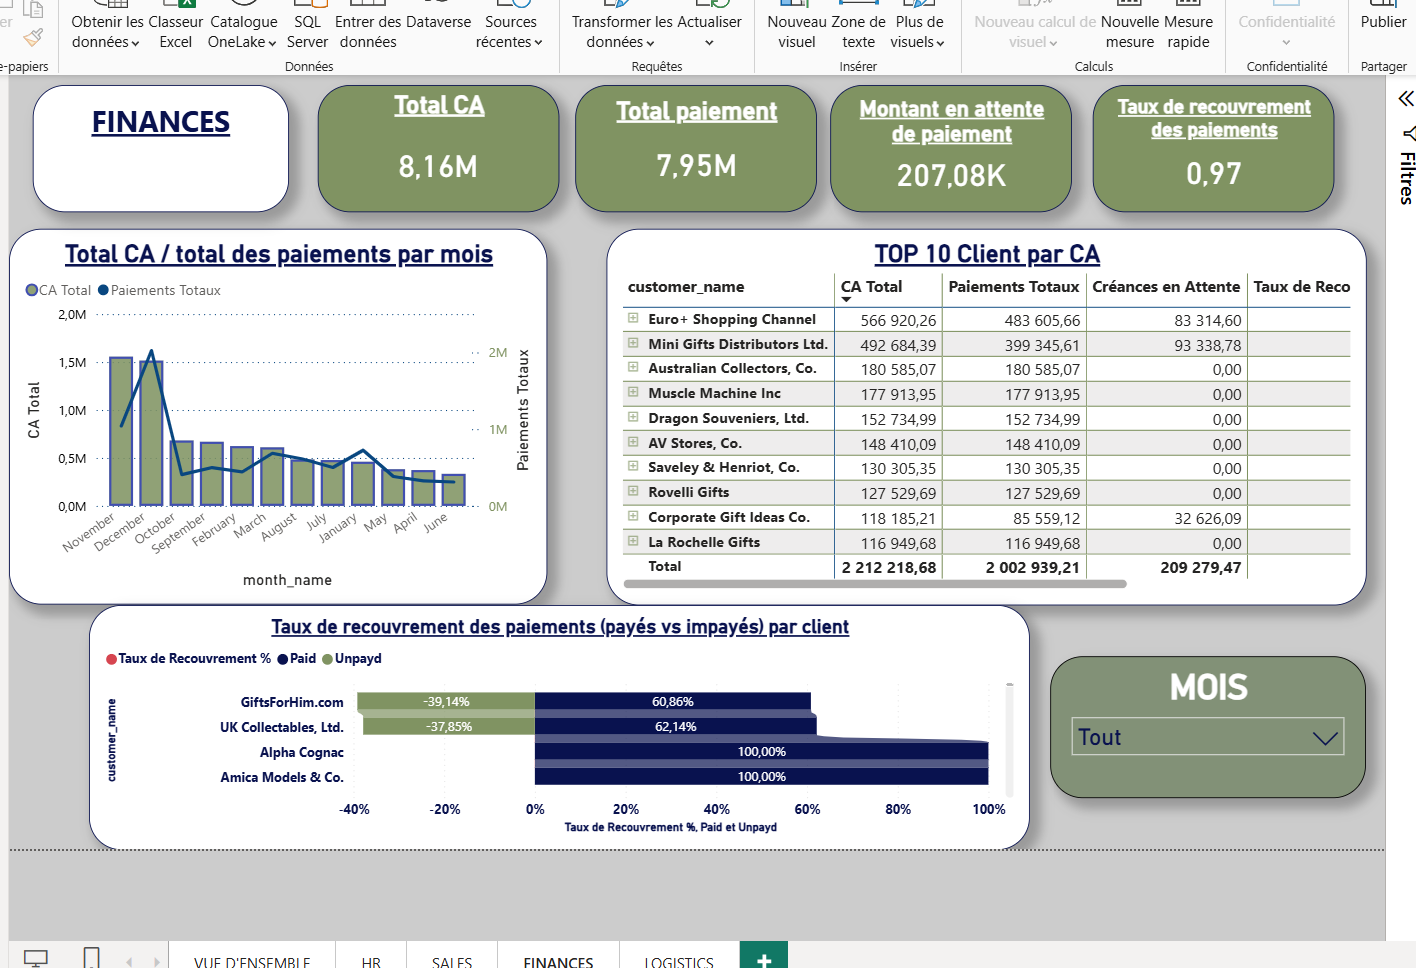

The page's visual inventory and layout, read from the dashboard file:
{"tool":"powerbi","page":{"name":"FINANCES","canvas":[1280,720],"ordinal":3},"visuals":[{"type":"card","title":"    Total CA","fields":{"Values":["_MEASURES.Total Revenue"]},"box":[286.8,9.6,225,118],"z":0},{"type":"card","title":"Total paiement","fields":{"Values":["_MEASURES.Total Payments"]},"box":[526.9,9.6,225,118],"z":1000},{"type":"card","title":"Montant en attente de paiement","fields":{"Values":["_MEASURES.Outstanding Amount"]},"box":[764.3,9.6,225,118],"z":2000},{"type":"card","title":"Taux de recouvrement des paiements","fields":{"Values":["_MEASURES.Payment Recovery Rate %"]},"box":[1008.6,9.6,225,118],"z":3000},{"type":"lineClusteredColumnComboChart","title":"Total CA / total des paiements par mois","fields":{"Category":["toys_and_models dim_dates.month_name"],"Y":["_MEASURES.Total Revenue"],"Y2":["_MEASURES.Total Payments"]},"box":[0,142.7,500.9,349.9],"z":4000},{"type":"pivotTable","title":"TOP 10 Client par CA","fields":{"Values":["_MEASURES.Total Revenue","_MEASURES.Total Payments","_MEASURES.Outstanding Amount","_MEASURES.Payment Recovery Rate %","_MEASURES.Revenue per Employee"],"Rows":["toys_and_models dim_customers.customer_name","toys_and_models dim_customers.country"]},"box":[555.7,142.9,707.1,350],"z":5000},{"type":"textbox","box":[22,9.6,238.8,118],"z":6000},{"type":"hundredPercentStackedBarChart","title":"Taux de recouvrement des paiements (payés vs impayés) par client","fields":{"Category":["toys_and_models dim_customers.customer_name"],"Y":["_MEASURES.Payment Recovery Rate %","_MEASURES.Paid","_MEASURES.Unpayd"]},"box":[74.1,492.6,875.5,227.8],"z":7000},{"type":"slicer","title":"MOIS","fields":{"Values":["toys_and_models dim_dates.order_date.Variation.Hiérarchie de dates.Mois"]},"box":[968.8,540.7,293.7,131.7],"z":8000}]}

Visuals, with their boxes on the page's 1280x720 design canvas (x1, y1, x2, y2). These are canvas units, not pixel positions in the 1416x968 screenshot, which may show the page scaled, cropped or inside an application window:
"    Total CA" card: <box>287,10,512,128</box>
"Total paiement" card: <box>527,10,752,128</box>
"Montant en attente de paiement" card: <box>764,10,989,128</box>
"Taux de recouvrement des paiements" card: <box>1009,10,1234,128</box>
"Total CA / total des paiements par mois" lineClusteredColumnComboChart: <box>0,143,501,493</box>
"TOP 10 Client par CA" pivotTable: <box>556,143,1263,493</box>
textbox: <box>22,10,261,128</box>
"Taux de recouvrement des paiements (payés vs impayés) par client" hundredPercentStackedBarChart: <box>74,493,950,720</box>
"MOIS" slicer: <box>969,541,1262,672</box>
